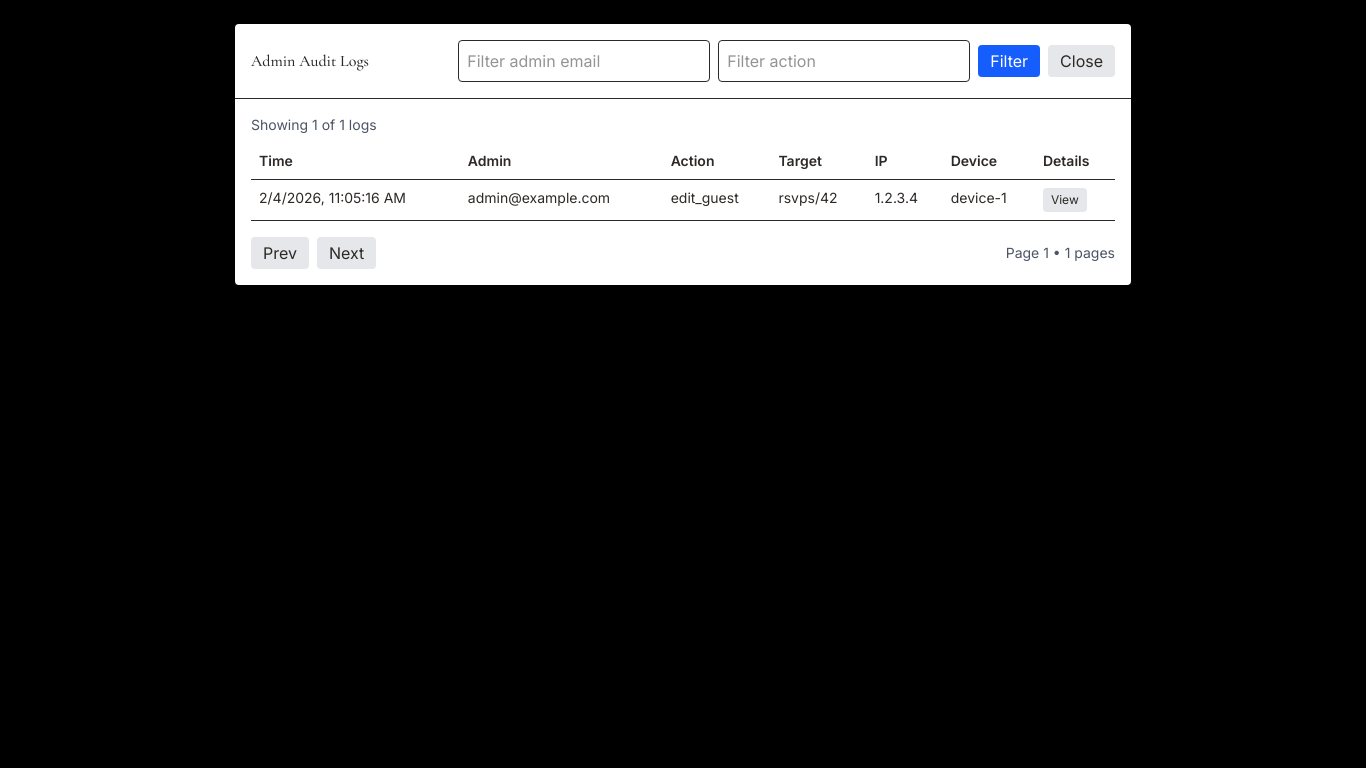
Test: AuditLogsViewer › fetches and displays logs and shows details modal
Expected: the text "Showing 1 of 1 logs" is shown, [251,116,377,133]
Expected: the text "admin@example.com" is shown, [460,180,663,220]
Note: Click View to open details
Click the button "View". click: (1065, 200)
box: [1043,188,1087,212]
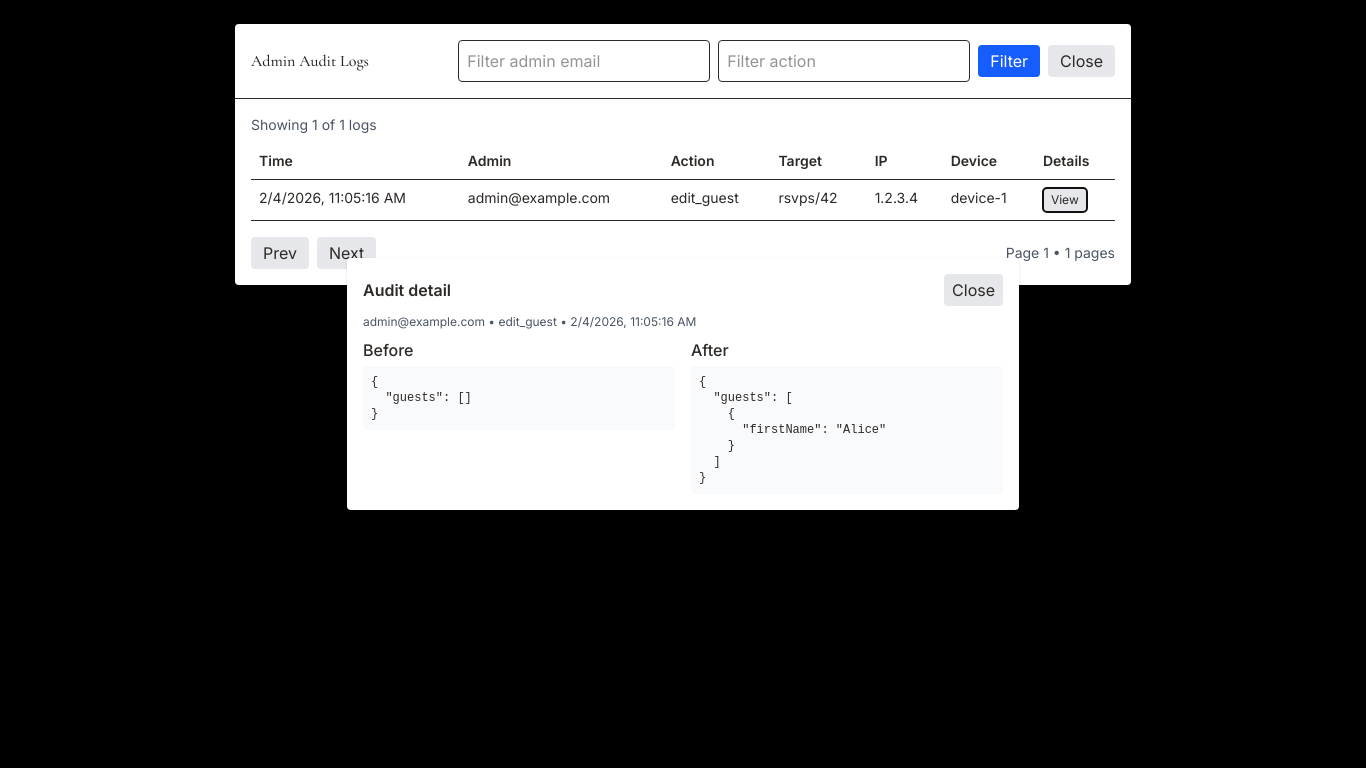
Now the text "Audit detail" is shown, box [363,278,451,302]
Now the text "Before" is shown, box [363,340,414,360]
Now the text "After" is shown, box [691,340,729,360]
